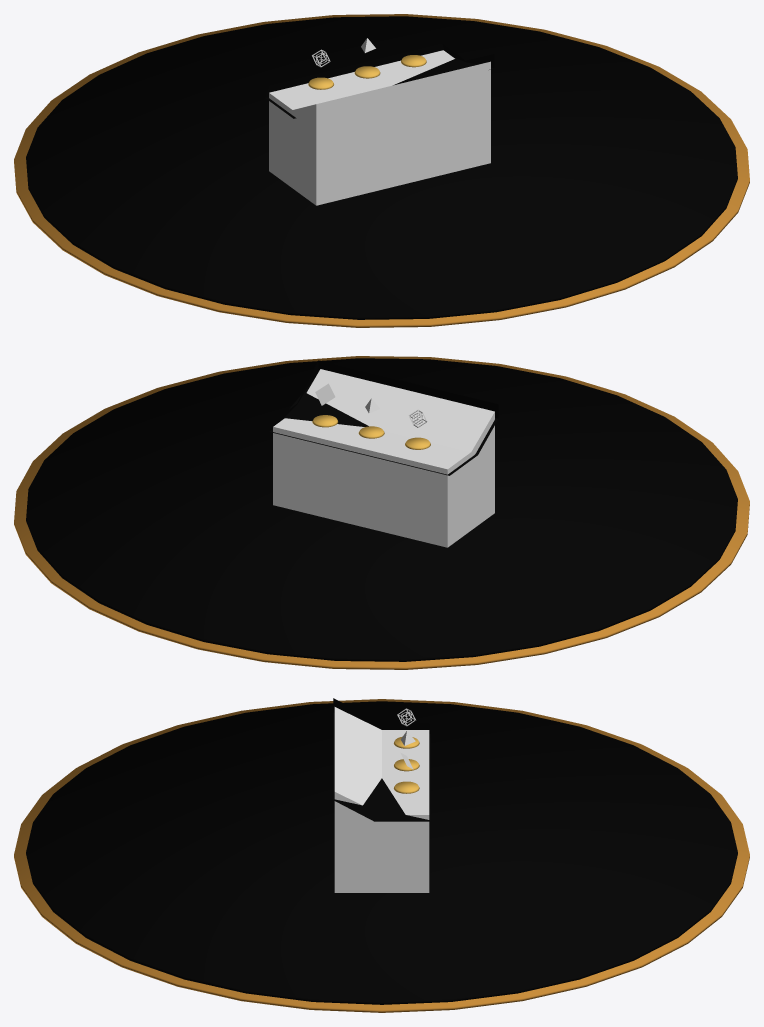
File: Temple.gltf
3 views of the same model, one above another, from view 1: azimuth 30°, elevation 25°; view 2: azimuth 150°, elevation 25°; view 3: azimuth 270°, elevation 25° (orthographic).
Visible parts, largest first — view 1: Circle.001, Medallion Tabletop, Circle, Cube.001; view 2: Circle.001, Medallion Tabletop, Circle, Cube.001; view 3: Circle.001, Medallion Tabletop, Circle, Cube.001.
Boxes of the visible parts, x1=… form: Circle.001: x1=26, y1=16, x2=737, y2=319; Medallion Tabletop: x1=269, y1=50, x2=490, y2=205; Circle: x1=14, y1=14, x2=749, y2=327; Cube.001: x1=265, y1=43, x2=494, y2=118; Circle.001: x1=26, y1=358, x2=737, y2=661; Medallion Tabletop: x1=273, y1=369, x2=494, y2=547; Circle: x1=14, y1=356, x2=749, y2=669; Cube.001: x1=269, y1=360, x2=498, y2=475; Circle.001: x1=26, y1=701, x2=737, y2=1004; Medallion Tabletop: x1=334, y1=707, x2=429, y2=892; Circle: x1=14, y1=699, x2=749, y2=1012; Cube.001: x1=333, y1=698, x2=430, y2=821.
Size of the model in its own units: 15.58 by 2.96 by 15.58.
